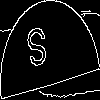S: (25, 25, 49, 78)
